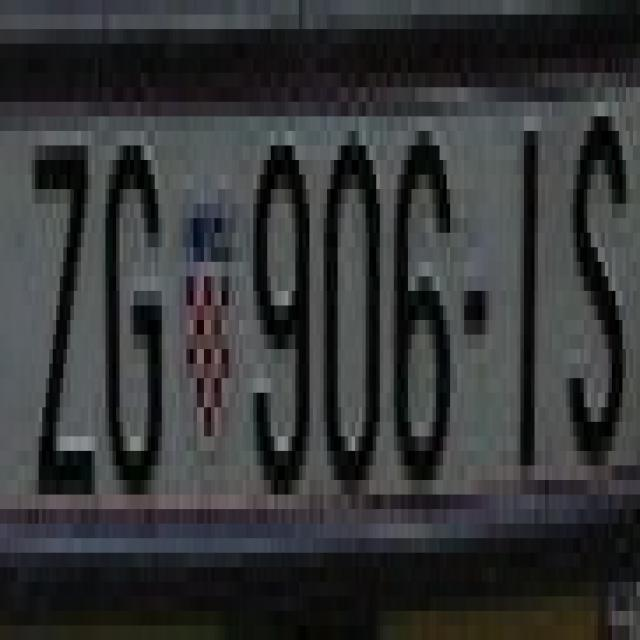0: (330, 102, 387, 494)
6: (391, 131, 454, 480)
9: (250, 130, 320, 494)
G: (106, 116, 172, 480)
S: (562, 102, 630, 466)
Z: (35, 117, 102, 494)
